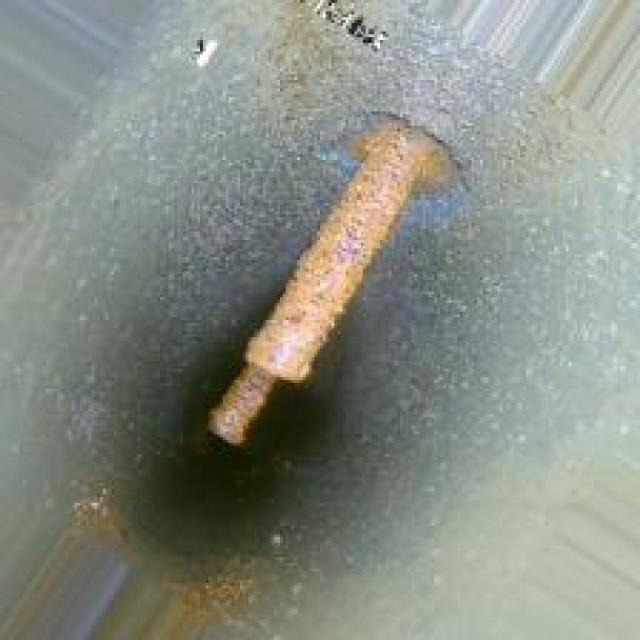ferrule: (194, 103, 463, 446)
